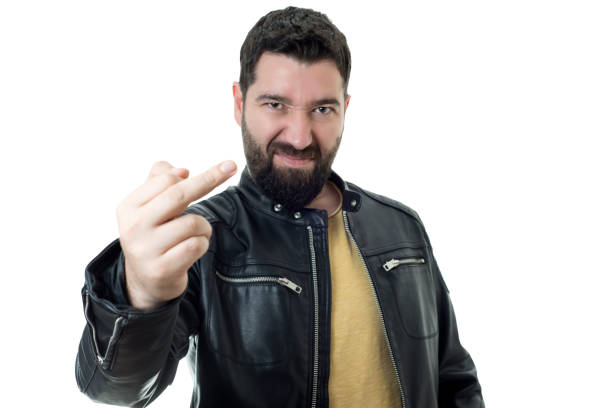insulting_gesture: (113, 157, 236, 298)
